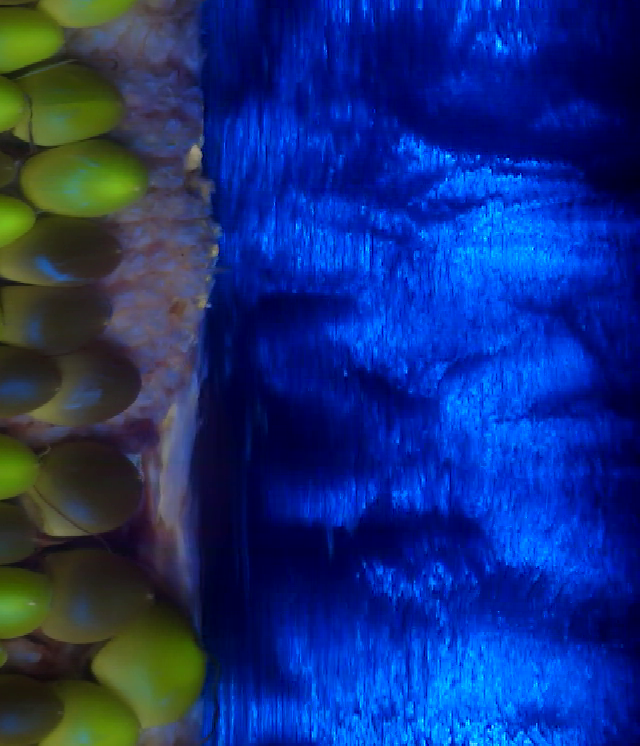fluorescent: (92, 608, 208, 726), (18, 141, 155, 218), (14, 60, 125, 142), (42, 676, 142, 745), (0, 10, 68, 76), (0, 566, 58, 643), (0, 436, 43, 504), (41, 1, 141, 24), (0, 194, 39, 252), (0, 65, 30, 137)
nonfluorescent: (33, 543, 161, 645), (22, 442, 148, 535), (0, 215, 127, 282), (0, 279, 113, 354), (39, 351, 146, 423), (0, 674, 65, 746), (0, 345, 62, 417), (0, 501, 40, 568)
